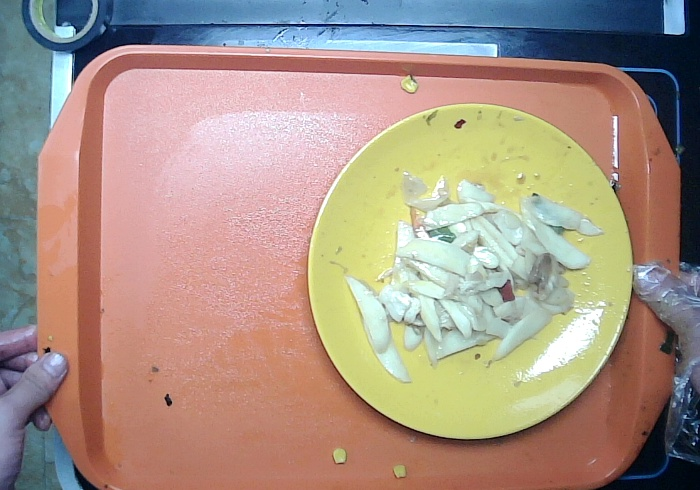HZYJPL-Huang_Se_Yuan_Pan: (304, 100, 635, 441)
